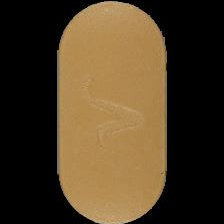63629-4505: (0, 0, 224, 224)
